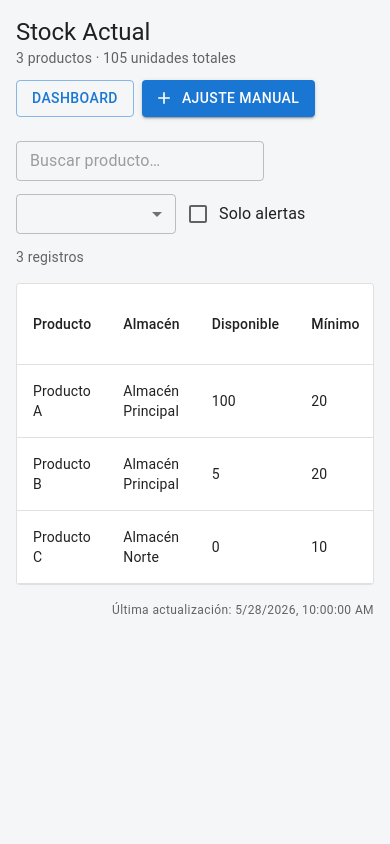
it: StockActualPage › filters rows by product name
Expected: the text "Producto A" is shown, [17, 364, 107, 437]
In the field with placeholder "Buscar producto…": (140, 160) [16, 140, 264, 180], type "Producto A"
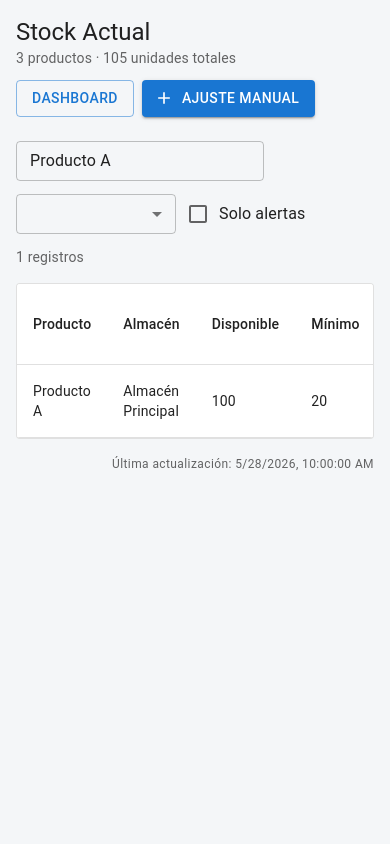
Expected: the text "Producto A" is shown, [17, 364, 107, 437]
Now the text "Producto B" is gone
Now the text "Producto C" is gone
